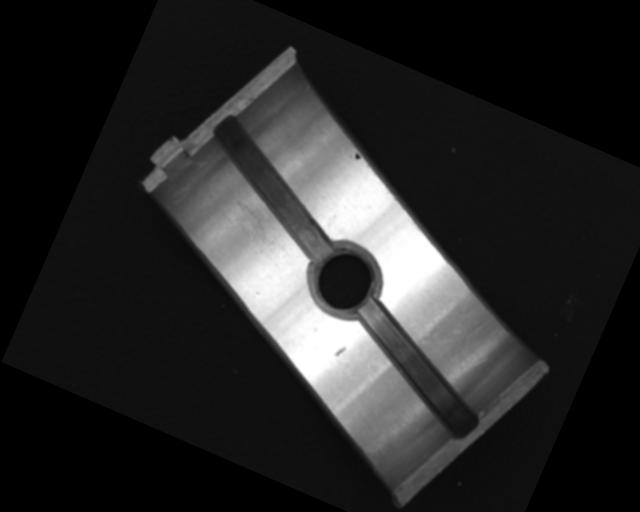blot: (350, 149, 363, 162)
bruise: (333, 343, 347, 360)
gap: (328, 296, 505, 444), (185, 117, 360, 264)
hole: (297, 234, 388, 330)
scratch: (210, 176, 294, 260)
